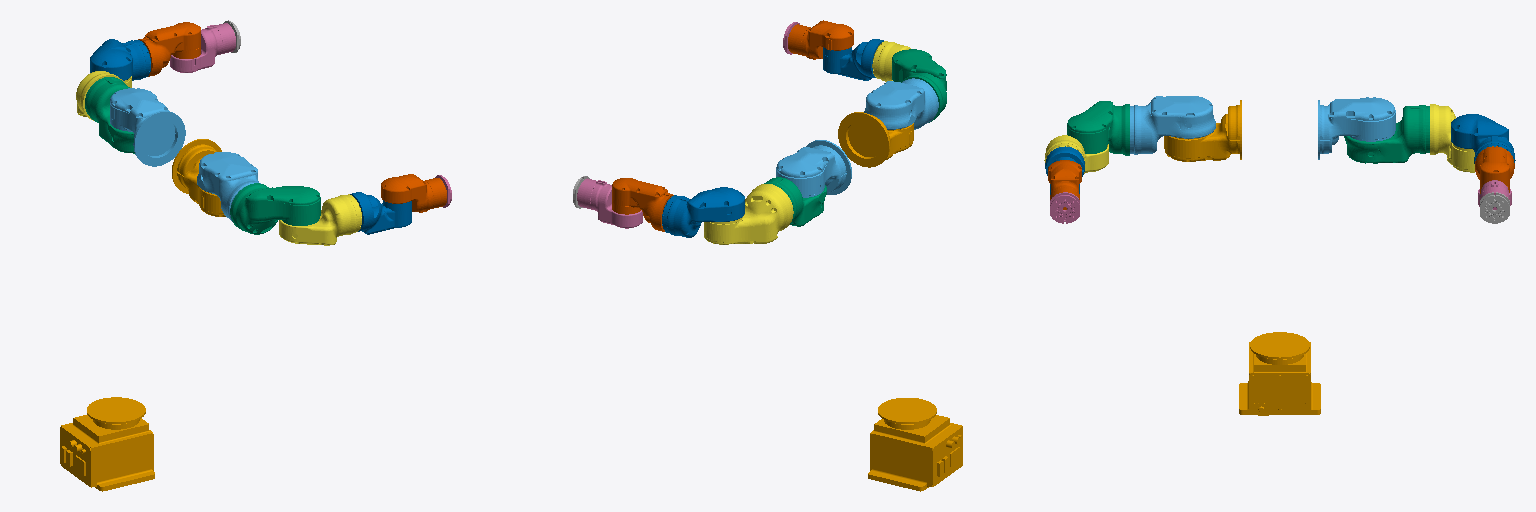
robot.urdf — sda5:
<?xml version="1.0" ?>
<!-- =================================================================================== -->
<!-- |    This document was autogenerated by xacro from sda5.urdf.xacro                | -->
<!-- |    EDITING THIS FILE BY HAND IS NOT RECOMMENDED                                 | -->
<!-- =================================================================================== -->
<robot name="sda5" xmlns:xacro="http://ros.org/wiki/xacro">
  <!-- File Include -->
  <!-- File Include -->
  <material name="black">
    <color rgba="0.0 0.0 0.0 1.0"/>
  </material>
  <material name="blue">
    <color rgba="0.0 0.0 0.8 1.0"/>
  </material>
  <material name="green">
    <color rgba="0.0 0.8 0.0 1.0"/>
  </material>
  <material name="grey">
    <color rgba="0.2 0.2 0.2 1.0"/>
  </material>
  <material name="orange">
    <color rgba="1.0 0.423529411765 0.0392156862745 1.0"/>
  </material>
  <material name="brown">
    <color rgba="0.870588235294 0.811764705882 0.764705882353 1.0"/>
  </material>
  <material name="red">
    <color rgba="0.8 0.0 0.0 1.0"/>
  </material>
  <material name="white">
    <color rgba="1.0 1.0 1.0 1.0"/>
  </material>
  <!-- Hard ware limits -->
  <!-- Range limits -->
  <!-- Velocity limits -->
  <!-- Add Macro -->
  <!-- Add Link & Joint -->
  <!-- TORSO Link -->
  <link name="torso_link">
    <visual>
      <geometry>
        <mesh filename="package://motoman_description/meshes/sda5/visual/torso_link/torso_link.dae"/>
      </geometry>
    </visual>
    <collision>
      <geometry>
        <mesh filename="package://motoman_description/meshes/sda5/collision/torso_link.STL"/>
      </geometry>
    </collision>
    <inertial>
      <mass value="30.0"/>
      <inertia ixx="1.12" ixy="0.00" ixz="0.58" iyy="1.47" iyz="0.00" izz="0.49"/>
    </inertial>
  </link>
  <joint name="torso_joint" type="revolute">
    <origin xyz="0.045 0 0.6696"/>
    <parent link="base_link"/>
    <child link="torso_link"/>
    <axis xyz="0 0 1"/>
    <dynamics damping="0.7" friction="0.7"/>
    <limit effort="30.0" lower="-2.96705981" upper="2.96705981" velocity="3.14"/>
  </joint>
  <!-- Link Left Parts -->
  <!-- Link LS -->
  <link name="link_l_s">
    <visual>
      <geometry>
        <mesh filename="package://motoman_description/meshes/sda5/visual/link_s/link_s.dae"/>
      </geometry>
    </visual>
    <collision>
      <geometry>
        <mesh filename="package://motoman_description/meshes/sda5/collision/link_s.STL"/>
      </geometry>
    </collision>
    <inertial>
      <origin rpy="0 0 0" xyz="0 0 0"/>
      <mass value="5.0"/>
      <inertia ixx="0.1285284" ixy="0" ixz="0" iyy="0.127697251956" iyz="0" izz="0.0186623672464"/>
    </inertial>
  </link>
  <joint name="joint_l_s" type="revolute">
    <origin rpy="-1.57079637 0 0" xyz="0.15 0.11225 0.2293"/>
    <parent link="torso_link"/>
    <child link="link_l_s"/>
    <axis xyz="0 0 1"/>
    <dynamics damping="0.7" friction="0.7"/>
    <limit effort="30.0" lower="-1.57079637" upper="4.71238911" velocity="3.49"/>
  </joint>
  <!-- Link LL -->
  <link name="link_l_l">
    <visual>
      <geometry>
        <mesh filename="package://motoman_description/meshes/sda5/visual/link_l/link_l.dae"/>
      </geometry>
    </visual>
    <collision>
      <geometry>
        <mesh filename="package://motoman_description/meshes/sda5/collision/link_l.STL"/>
      </geometry>
    </collision>
    <inertial>
      <origin rpy="3.14159274 0 0" xyz="0 -0.006 0.15"/>
      <mass value="5.0"/>
      <inertia ixx="0.12248884058" ixy="0" ixz="0" iyy="0.117554616667" iyz="0" izz="0.0177495804348"/>
    </inertial>
  </link>
  <joint name="joint_l_l" type="revolute">
    <origin rpy="-1.57079637 0 0" xyz="0 0.03575 0.13"/>
    <parent link="link_l_s"/>
    <child link="link_l_l"/>
    <axis xyz="0 0 1"/>
    <dynamics damping="0.7" friction="0.7"/>
    <limit effort="30.0" lower="-1.91986223" upper="1.91986223" velocity="3.49"/>
  </joint>
  <!-- Link LE -->
  <link name="link_l_e">
    <visual>
      <geometry>
        <mesh filename="package://motoman_description/meshes/sda5/visual/link_e/link_e.dae"/>
      </geometry>
    </visual>
    <collision>
      <geometry>
        <mesh filename="package://motoman_description/meshes/sda5/collision/link_e.STL"/>
      </geometry>
    </collision>
    <inertial>
      <origin rpy="0 0 -1.57079637" xyz="0 0 0"/>
      <mass value="3.0"/>
      <inertia ixx="0.0122899381739" ixy="0" ixz="0" iyy="0.0117127787826" iyz="0" izz="0.00344401234783"/>
    </inertial>
  </link>
  <joint name="joint_l_e" type="revolute">
    <origin rpy="1.57079637 0 0" xyz="0 -0.18225 -0.0365"/>
    <parent link="link_l_l"/>
    <child link="link_l_e"/>
    <axis xyz="0 0 1"/>
    <dynamics damping="0.7" friction="0.7"/>
    <limit effort="30.0" lower="-2.96705981" upper="2.96705981" velocity="3.49"/>
  </joint>
  <!-- Link LU -->
  <link name="link_l_u">
    <visual>
      <geometry>
        <mesh filename="package://motoman_description/meshes/sda5/visual/link_u/link_u.dae"/>
      </geometry>
    </visual>
    <collision>
      <geometry>
        <mesh filename="package://motoman_description/meshes/sda5/collision/link_u.STL"/>
      </geometry>
    </collision>
    <inertial>
      <origin rpy="-3.14159274 1.57079637 0" xyz="0.008 -0.06 -0.131"/>
      <mass value="2.0"/>
      <inertia ixx="0.0110207115768" ixy="0" ixz="0" iyy="0.00996803594202" iyz="0" izz="0.00214043853333"/>
    </inertial>
  </link>
  <joint name="joint_l_u" type="revolute">
    <origin rpy="0 1.57079637 -1.57079637" xyz="0.085 -0.02928 0.087"/>
    <parent link="link_l_e"/>
    <child link="link_l_u"/>
    <axis xyz="0 0 1"/>
    <dynamics damping="0.7" friction="0.7"/>
    <limit effort="30.0" lower="-1.57079637" upper="2.007128695" velocity="3.49"/>
  </joint>
  <!-- Link LR -->
  <link name="link_l_r">
    <visual>
      <geometry>
        <mesh filename="package://motoman_description/meshes/sda5/visual/link_r/link_r.dae"/>
      </geometry>
    </visual>
    <collision>
      <geometry>
        <mesh filename="package://motoman_description/meshes/sda5/collision/link_r.STL"/>
      </geometry>
    </collision>
    <inertial>
      <origin rpy="0 0 -1.57079637" xyz="0 0 0"/>
      <mass value="2.0"/>
      <inertia ixx="0.0108400832201" ixy="0" ixz="0" iyy="0.010708873981" iyz="0" izz="0.00140456861413"/>
    </inertial>
  </link>
  <joint name="joint_l_r" type="revolute">
    <origin rpy="1.57079637 0 0" xyz="-0.06 0.14428 -0.03"/>
    <parent link="link_l_u"/>
    <child link="link_l_r"/>
    <axis xyz="0 0 1"/>
    <dynamics damping="0.7" friction="0.7"/>
    <limit effort="30.0" lower="-3.14159274" upper="3.14159274" velocity="3.49"/>
  </joint>
  <!-- Link LB -->
  <link name="link_l_b">
    <visual>
      <geometry>
        <mesh filename="package://motoman_description/meshes/sda5/visual/link_b/link_b.dae"/>
      </geometry>
    </visual>
    <collision>
      <geometry>
        <mesh filename="package://motoman_description/meshes/sda5/collision/link_b.STL"/>
      </geometry>
    </collision>
    <inertial>
      <origin rpy="1.57079637 -1.57079637 0" xyz="0 0.0045 0.1365"/>
      <mass value="2.0"/>
      <inertia ixx="0.00814341869565" ixy="0" ixz="0" iyy="0.00709473869565" iyz="0" izz="0.000736577391304"/>
    </inertial>
  </link>
  <joint name="joint_l_b" type="revolute">
    <origin rpy="-1.57079637 0 0" xyz="0 -0.0392 -0.125"/>
    <parent link="link_l_r"/>
    <child link="link_l_b"/>
    <axis xyz="0 0 1"/>
    <dynamics damping="0.7" friction="0.7"/>
    <limit effort="30.0" lower="-1.91986223" upper="1.91986223" velocity="4.01"/>
  </joint>
  <!-- Link LT -->
  <link name="link_l_t">
    <visual>
      <geometry>
        <mesh filename="package://motoman_description/meshes/sda5/visual/link_t/link_t.dae"/>
      </geometry>
    </visual>
    <collision>
      <geometry>
        <mesh filename="package://motoman_description/meshes/sda5/collision/link_t.STL"/>
      </geometry>
    </collision>
    <inertial>
      <origin rpy="0 0 0" xyz="0 0 0"/>
      <mass value="1.0"/>
      <inertia ixx="0.003" ixy="0" ixz="0" iyy="0.003" iyz="0" izz="0.001"/>
    </inertial>
  </link>
  <joint name="joint_l_t" type="revolute">
    <origin rpy="1.57079637 0 0" xyz="0 0.1365 0.0392"/>
    <parent link="link_l_b"/>
    <child link="link_l_t"/>
    <axis xyz="0 0 1"/>
    <dynamics damping="0.7" friction="0.7"/>
    <limit effort="30.0" lower="-3.14159274" upper="3.14159274" velocity="6.11"/>
  </joint>
  <!-- Link Right Parts -->
  <!-- Link RS -->
  <link name="link_r_s">
    <visual>
      <geometry>
        <mesh filename="package://motoman_description/meshes/sda5/visual/link_s/link_s.dae"/>
      </geometry>
    </visual>
    <collision>
      <geometry>
        <mesh filename="package://motoman_description/meshes/sda5/collision/link_s.STL"/>
      </geometry>
    </collision>
    <inertial>
      <origin rpy="0 0 0" xyz="0 0 0"/>
      <mass value="5.0"/>
      <inertia ixx="0.1285284" ixy="0" ixz="0" iyy="0.127697251956" iyz="0" izz="0.0186623672464"/>
    </inertial>
  </link>
  <joint name="joint_r_s" type="revolute">
    <origin rpy="1.57079637 0 0" xyz="0.15 -0.11225 0.2293"/>
    <parent link="torso_link"/>
    <child link="link_r_s"/>
    <axis xyz="0 0 1"/>
    <dynamics damping="0.7" friction="0.7"/>
    <limit effort="30.0" lower="-1.57079637" upper="4.71238911" velocity="3.49"/>
  </joint>
  <!-- Link RL -->
  <link name="link_r_l">
    <visual>
      <geometry>
        <mesh filename="package://motoman_description/meshes/sda5/visual/link_l/link_l.dae"/>
      </geometry>
    </visual>
    <collision>
      <geometry>
        <mesh filename="package://motoman_description/meshes/sda5/collision/link_l.STL"/>
      </geometry>
    </collision>
    <inertial>
      <origin rpy="3.14159274 0 0" xyz="0 -0.006 0.15"/>
      <mass value="5.0"/>
      <inertia ixx="0.12248884058" ixy="0" ixz="0" iyy="0.117554616667" iyz="0" izz="0.0177495804348"/>
    </inertial>
  </link>
  <joint name="joint_r_l" type="revolute">
    <origin rpy="-1.57079637 0 0" xyz="0 0.03575 0.13"/>
    <parent link="link_r_s"/>
    <child link="link_r_l"/>
    <axis xyz="0 0 1"/>
    <dynamics damping="0.7" friction="0.7"/>
    <limit effort="30.0" lower="-1.91986223" upper="1.91986223" velocity="3.49"/>
  </joint>
  <!-- Link RE -->
  <link name="link_r_e">
    <visual>
      <geometry>
        <mesh filename="package://motoman_description/meshes/sda5/visual/link_e/link_e.dae"/>
      </geometry>
    </visual>
    <collision>
      <geometry>
        <mesh filename="package://motoman_description/meshes/sda5/collision/link_e.STL"/>
      </geometry>
    </collision>
    <inertial>
      <origin rpy="0 0 -1.57079637" xyz="0 0 0"/>
      <mass value="3.0"/>
      <inertia ixx="0.0122899381739" ixy="0" ixz="0" iyy="0.0117127787826" iyz="0" izz="0.00344401234783"/>
    </inertial>
  </link>
  <joint name="joint_r_e" type="revolute">
    <origin rpy="1.57079637 0 0" xyz="0 -0.18225 -0.0365"/>
    <parent link="link_r_l"/>
    <child link="link_r_e"/>
    <axis xyz="0 0 1"/>
    <dynamics damping="0.7" friction="0.7"/>
    <limit effort="30.0" lower="-2.96705981" upper="2.96705981" velocity="3.49"/>
  </joint>
  <!-- Link RU -->
  <link name="link_r_u">
    <visual>
      <geometry>
        <mesh filename="package://motoman_description/meshes/sda5/visual/link_u/link_u.dae"/>
      </geometry>
    </visual>
    <collision>
      <geometry>
        <mesh filename="package://motoman_description/meshes/sda5/collision/link_u.STL"/>
      </geometry>
    </collision>
    <inertial>
      <origin rpy="-3.14159274 1.57079637 0" xyz="0.008 -0.06 -0.131"/>
      <mass value="2.0"/>
      <inertia ixx="0.0110207115768" ixy="0" ixz="0" iyy="0.00996803594202" iyz="0" izz="0.00214043853333"/>
    </inertial>
  </link>
  <joint name="joint_r_u" type="revolute">
    <origin rpy="0 1.57079637 -1.57079637" xyz="0.085 -0.02928 0.087"/>
    <parent link="link_r_e"/>
    <child link="link_r_u"/>
    <axis xyz="0 0 1"/>
    <dynamics damping="0.7" friction="0.7"/>
    <limit effort="30.0" lower="-1.57079637" upper="2.007128695" velocity="3.49"/>
  </joint>
  <!-- Link RR -->
  <link name="link_r_r">
    <visual>
      <geometry>
        <mesh filename="package://motoman_description/meshes/sda5/visual/link_r/link_r.dae"/>
      </geometry>
    </visual>
    <collision>
      <geometry>
        <mesh filename="package://motoman_description/meshes/sda5/collision/link_r.STL"/>
      </geometry>
    </collision>
    <inertial>
      <origin rpy="0 0 -1.57079637" xyz="0 0 0"/>
      <mass value="2.0"/>
      <inertia ixx="0.0108400832201" ixy="0" ixz="0" iyy="0.010708873981" iyz="0" izz="0.00140456861413"/>
    </inertial>
  </link>
  <joint name="joint_r_r" type="revolute">
    <origin rpy="1.57079637 0 0" xyz="-0.06 0.14428 -0.03"/>
    <parent link="link_r_u"/>
    <child link="link_r_r"/>
    <axis xyz="0 0 1"/>
    <dynamics damping="0.7" friction="0.7"/>
    <limit effort="30.0" lower="-3.14159274" upper="3.14159274" velocity="3.49"/>
  </joint>
  <!-- Link RB -->
  <link name="link_r_b">
    <visual>
      <geometry>
        <mesh filename="package://motoman_description/meshes/sda5/visual/link_b/link_b.dae"/>
      </geometry>
    </visual>
    <collision>
      <geometry>
        <mesh filename="package://motoman_description/meshes/sda5/collision/link_b.STL"/>
      </geometry>
    </collision>
    <inertial>
      <origin rpy="1.57079637 -1.57079637 0" xyz="0 0.0045 0.1365"/>
      <mass value="2.0"/>
      <inertia ixx="0.00814341869565" ixy="0" ixz="0" iyy="0.00709473869565" iyz="0" izz="0.000736577391304"/>
    </inertial>
  </link>
  <joint name="joint_r_b" type="revolute">
    <origin rpy="-1.57079637 0 0" xyz="0 -0.0392 -0.125"/>
    <parent link="link_r_r"/>
    <child link="link_r_b"/>
    <axis xyz="0 0 1"/>
    <dynamics damping="0.7" friction="0.7"/>
    <limit effort="30.0" lower="-1.91986223" upper="1.91986223" velocity="4.01"/>
  </joint>
  <!-- Link RT -->
  <link name="link_r_t">
    <visual>
      <geometry>
        <mesh filename="package://motoman_description/meshes/sda5/visual/link_t/link_t.dae"/>
      </geometry>
    </visual>
    <collision>
      <geometry>
        <mesh filename="package://motoman_description/meshes/sda5/collision/link_t.STL"/>
      </geometry>
    </collision>
    <inertial>
      <origin rpy="0 0 0" xyz="0 0 0"/>
      <mass value="1.0"/>
      <inertia ixx="0.003" ixy="0" ixz="0" iyy="0.003" iyz="0" izz="0.001"/>
    </inertial>
  </link>
  <joint name="joint_r_t" type="revolute">
    <origin rpy="1.57079637 0 0" xyz="0 0.1365 0.0392"/>
    <parent link="link_r_b"/>
    <child link="link_r_t"/>
    <axis xyz="0 0 1"/>
    <dynamics damping="0.7" friction="0.7"/>
    <limit effort="30.0" lower="-3.14159274" upper="3.14159274" velocity="6.11"/>
  </joint>
  <!-- Add Transmission -->
  <transmission name="trans_torso">
    <type>transmission_interface/SimpleTransmission</type>
    <joint name="torso_joint">
      <hardwareInterface>PositionJointInterface</hardwareInterface>
    </joint>
    <actuator name="torso_actuator">
      <hardwareInterface>PositionJointInterface</hardwareInterface>
      <mechanicalReduction>300</mechanicalReduction>
    </actuator>
  </transmission>
  <transmission name="trans_l_s">
    <type>transmission_interface/SimpleTransmission</type>
    <joint name="joint_l_s">
      <hardwareInterface>PositionJointInterface</hardwareInterface>
    </joint>
    <actuator name="actuator_l_s">
      <hardwareInterface>PositionJointInterface</hardwareInterface>
      <mechanicalReduction>300</mechanicalReduction>
    </actuator>
  </transmission>
  <transmission name="trans_l_l">
    <type>transmission_interface/SimpleTransmission</type>
    <joint name="joint_l_l">
      <hardwareInterface>PositionJointInterface</hardwareInterface>
    </joint>
    <actuator name="actuator_l_l">
      <hardwareInterface>PositionJointInterface</hardwareInterface>
      <mechanicalReduction>300</mechanicalReduction>
    </actuator>
  </transmission>
  <transmission name="trans_l_e">
    <type>transmission_interface/SimpleTransmission</type>
    <joint name="joint_l_e">
      <hardwareInterface>PositionJointInterface</hardwareInterface>
    </joint>
    <actuator name="actuator_l_e">
      <hardwareInterface>PositionJointInterface</hardwareInterface>
      <mechanicalReduction>100</mechanicalReduction>
    </actuator>
  </transmission>
  <transmission name="trans_l_u">
    <type>transmission_interface/SimpleTransmission</type>
    <joint name="joint_l_u">
      <hardwareInterface>PositionJointInterface</hardwareInterface>
    </joint>
    <actuator name="actuator_l_u">
      <hardwareInterface>PositionJointInterface</hardwareInterface>
      <mechanicalReduction>50</mechanicalReduction>
    </actuator>
  </transmission>
  <transmission name="trans_l_r">
    <type>transmission_interface/SimpleTransmission</type>
    <joint name="joint_l_r">
      <hardwareInterface>PositionJointInterface</hardwareInterface>
    </joint>
    <actuator name="actuator_l_r">
      <hardwareInterface>PositionJointInterface</hardwareInterface>
      <mechanicalReduction>30</mechanicalReduction>
    </actuator>
  </transmission>
  <transmission name="trans_l_b">
    <type>transmission_interface/SimpleTransmission</type>
    <joint name="joint_l_b">
      <hardwareInterface>PositionJointInterface</hardwareInterface>
    </joint>
    <actuator name="actuator_l_b">
      <hardwareInterface>PositionJointInterface</hardwareInterface>
      <mechanicalReduction>30</mechanicalReduction>
    </actuator>
  </transmission>
  <transmission name="trans_l_t">
    <type>transmission_interface/SimpleTransmission</type>
    <joint name="joint_l_t">
      <hardwareInterface>PositionJointInterface</hardwareInterface>
    </joint>
    <actuator name="actuator_l_t">
      <hardwareInterface>PositionJointInterface</hardwareInterface>
      <mechanicalReduction>10</mechanicalReduction>
    </actuator>
  </transmission>
  <transmission name="trans_r_s">
    <type>transmission_interface/SimpleTransmission</type>
    <joint name="joint_r_s">
      <hardwareInterface>PositionJointInterface</hardwareInterface>
    </joint>
    <actuator name="actuator_r_s">
      <hardwareInterface>PositionJointInterface</hardwareInterface>
      <mechanicalReduction>300</mechanicalReduction>
    </actuator>
  </transmission>
  <transmission name="trans_r_l">
    <type>transmission_interface/SimpleTransmission</type>
    <joint name="joint_r_l">
      <hardwareInterface>PositionJointInterface</hardwareInterface>
    </joint>
    <actuator name="actuator_r_l">
      <hardwareInterface>PositionJointInterface</hardwareInterface>
      <mechanicalReduction>300</mechanicalReduction>
    </actuator>
  </transmission>
  <transmission name="trans_r_e">
    <type>transmission_interface/SimpleTransmission</type>
    <joint name="joint_r_e">
      <hardwareInterface>PositionJointInterface</hardwareInterface>
    </joint>
    <actuator name="actuator_r_e">
      <hardwareInterface>PositionJointInterface</hardwareInterface>
      <mechanicalReduction>100</mechanicalReduction>
    </actuator>
  </transmission>
  <transmission name="trans_r_u">
    <type>transmission_interface/SimpleTransmission</type>
    <joint name="joint_r_u">
      <hardwareInterface>PositionJointInterface</hardwareInterface>
    </joint>
    <actuator name="actuator_r_u">
      <hardwareInterface>PositionJointInterface</hardwareInterface>
      <mechanicalReduction>50</mechanicalReduction>
    </actuator>
  </transmission>
  <transmission name="trans_r_r">
    <type>transmission_interface/SimpleTransmission</type>
    <joint name="joint_r_r">
      <hardwareInterface>PositionJointInterface</hardwareInterface>
    </joint>
    <actuator name="actuator_r_r">
      <hardwareInterface>PositionJointInterface</hardwareInterface>
      <mechanicalReduction>30</mechanicalReduction>
    </actuator>
  </transmission>
  <transmission name="trans_r_b">
    <type>transmission_interface/SimpleTransmission</type>
    <joint name="joint_r_b">
      <hardwareInterface>PositionJointInterface</hardwareInterface>
    </joint>
    <actuator name="actuator_r_b">
      <hardwareInterface>PositionJointInterface</hardwareInterface>
      <mechanicalReduction>30</mechanicalReduction>
    </actuator>
  </transmission>
  <transmission name="trans_r_t">
    <type>transmission_interface/SimpleTransmission</type>
    <joint name="joint_r_t">
      <hardwareInterface>PositionJointInterface</hardwareInterface>
    </joint>
    <actuator name="actuator_r_t">
      <hardwareInterface>PositionJointInterface</hardwareInterface>
      <mechanicalReduction>10</mechanicalReduction>
    </actuator>
  </transmission>
  <!-- Add Gazebo -->
  <gazebo reference="torso_link">
    <mu1>0.2</mu1>
    <mu2>0.2</mu2>
    <selfCollide>true</selfCollide>
  </gazebo>
  <gazebo reference="link_l_s">
    <mu1>0.2</mu1>
    <mu2>0.2</mu2>
    <selfCollide>true</selfCollide>
  </gazebo>
  <gazebo reference="link_l_l">
    <mu1>0.2</mu1>
    <mu2>0.2</mu2>
    <selfCollide>true</selfCollide>
  </gazebo>
  <gazebo reference="link_l_e">
    <mu1>0.2</mu1>
    <mu2>0.2</mu2>
    <selfCollide>true</selfCollide>
  </gazebo>
  <gazebo reference="link_l_u">
    <mu1>0.2</mu1>
    <mu2>0.2</mu2>
    <selfCollide>true</selfCollide>
  </gazebo>
  <gazebo reference="link_l_r">
    <mu1>0.2</mu1>
    <mu2>0.2</mu2>
    <selfCollide>true</selfCollide>
  </gazebo>
  <gazebo reference="link_l_b">
    <mu1>0.2</mu1>
    <mu2>0.2</mu2>
    <selfCollide>true</selfCollide>
  </gazebo>
  <gazebo reference="link_l_t">
    <mu1>0.2</mu1>
    <mu2>0.2</mu2>
    <selfCollide>true</selfCollide>
  </gazebo>
  <gazebo reference="link_r_s">
    <mu1>0.2</mu1>
    <mu2>0.2</mu2>
    <selfCollide>true</selfCollide>
  </gazebo>
  <gazebo reference="link_r_l">
    <mu1>0.2</mu1>
    <mu2>0.2</mu2>
    <selfCollide>true</selfCollide>
  </gazebo>
  <gazebo reference="link_r_e">
    <mu1>0.2</mu1>
    <mu2>0.2</mu2>
    <selfCollide>true</selfCollide>
  </gazebo>
  <gazebo reference="link_r_u">
    <mu1>0.2</mu1>
    <mu2>0.2</mu2>
    <selfCollide>true</selfCollide>
  </gazebo>
  <gazebo reference="link_r_r">
    <mu1>0.2</mu1>
    <mu2>0.2</mu2>
    <selfCollide>true</selfCollide>
  </gazebo>
  <gazebo reference="link_r_b">
    <mu1>0.2</mu1>
    <mu2>0.2</mu2>
    <selfCollide>true</selfCollide>
  </gazebo>
  <gazebo reference="link_r_t">
    <mu1>0.2</mu1>
    <mu2>0.2</mu2>
    <selfCollide>true</selfCollide>
  </gazebo>
  <!-- Add Gazebo plugin -->
  <gazebo>
    <plugin filename="libgazebo_ros_control.so" name="gazebo_ros_control">
      <robotSimType>gazebo_ros_control/DefaultRobotHWSim</robotSimType>
    </plugin>
  </gazebo>
  <link name="world"/>
  <link name="base_link">
    <visual>
      <geometry>
        <mesh filename="package://motoman_description/meshes/sda5/visual/base_link/base_link.dae"/>
      </geometry>
    </visual>
    <collision>
      <geometry>
        <mesh filename="package://motoman_description/meshes/sda5/collision/base_link.STL"/>
      </geometry>
    </collision>
    <inertial>
      <mass value="40.0"/>
      <inertia ixx="5.28" ixy="0.00" ixz="0.47" iyy="5.30" iyz="0.00" izz="0.28"/>
    </inertial>
  </link>
  <joint name="base_joint" type="fixed">
    <origin rpy="0 0 0" xyz="0 0 0"/>
    <parent link="world"/>
    <child link="base_link"/>
  </joint>
</robot>

--- Render facts (derived) ---
3 views of the same robot in one strip: view 1: azimuth 30°, elevation 25°; view 2: azimuth 150°, elevation 25°; view 3: azimuth 270°, elevation 25° (orthographic).
Model sda5 with 17 links and 16 joints (15 revolute, 1 fixed), rooted at world, posed all joints at 0.
Links seen in each view (by area): view 1: base_link, link_l_s, link_r_e, link_r_u, link_r_l, link_r_s, link_l_r, link_l_u, link_r_b, link_l_l, link_r_r, link_l_b (+1 smaller); view 2: base_link, link_l_e, link_l_s, link_r_l, link_r_s, link_l_u, link_l_r, link_r_b, link_r_e, link_r_r, link_l_b, link_l_l (+1 smaller); view 3: base_link, link_r_l, link_l_s, link_l_l, link_r_e, link_r_s, link_l_u, link_l_e, link_l_r, link_r_b, link_r_u, link_r_t (+2 smaller).
Boxes of the visible links, x1,y1,x2,y2 form: base_link: (60,397,154,491); link_l_s: (110,88,185,166); link_r_e: (230,183,320,234); link_r_u: (279,194,361,245); link_r_l: (197,152,260,221); link_r_s: (172,139,225,216); link_l_r: (138,22,200,76); link_l_u: (90,39,150,80); link_r_b: (381,174,446,212); link_l_l: (85,77,134,153); link_r_r: (350,192,411,234); link_l_b: (170,23,235,72); base_link: (868,398,962,491); link_l_e: (704,184,793,244); link_l_s: (776,140,851,197); link_r_l: (864,78,938,129); link_r_s: (838,112,913,167); link_l_u: (662,187,744,237); link_l_r: (612,178,673,231); link_r_b: (788,20,853,59); link_r_e: (892,49,946,122); link_r_r: (823,39,883,80); link_l_b: (577,178,642,228); link_l_l: (764,177,826,226); base_link: (1239,332,1320,415); link_r_l: (1130,96,1215,154); link_l_s: (1318,97,1395,159); link_l_l: (1344,105,1429,163); link_r_e: (1067,101,1129,155); link_r_s: (1164,100,1241,161); link_l_u: (1451,114,1515,163); link_l_e: (1430,104,1474,172); link_l_r: (1475,146,1514,193); link_r_b: (1048,160,1081,209); link_r_u: (1044,135,1108,173); link_r_t: (1050,192,1079,223).
Size in the robot's own frame: 0.8417 by 1.25 by 0.9789 metres.
15 mesh visuals loaded from 9 distinct referenced files (8 Collada DAE); not drawn: 1 (reference not matched to a file when rendering).